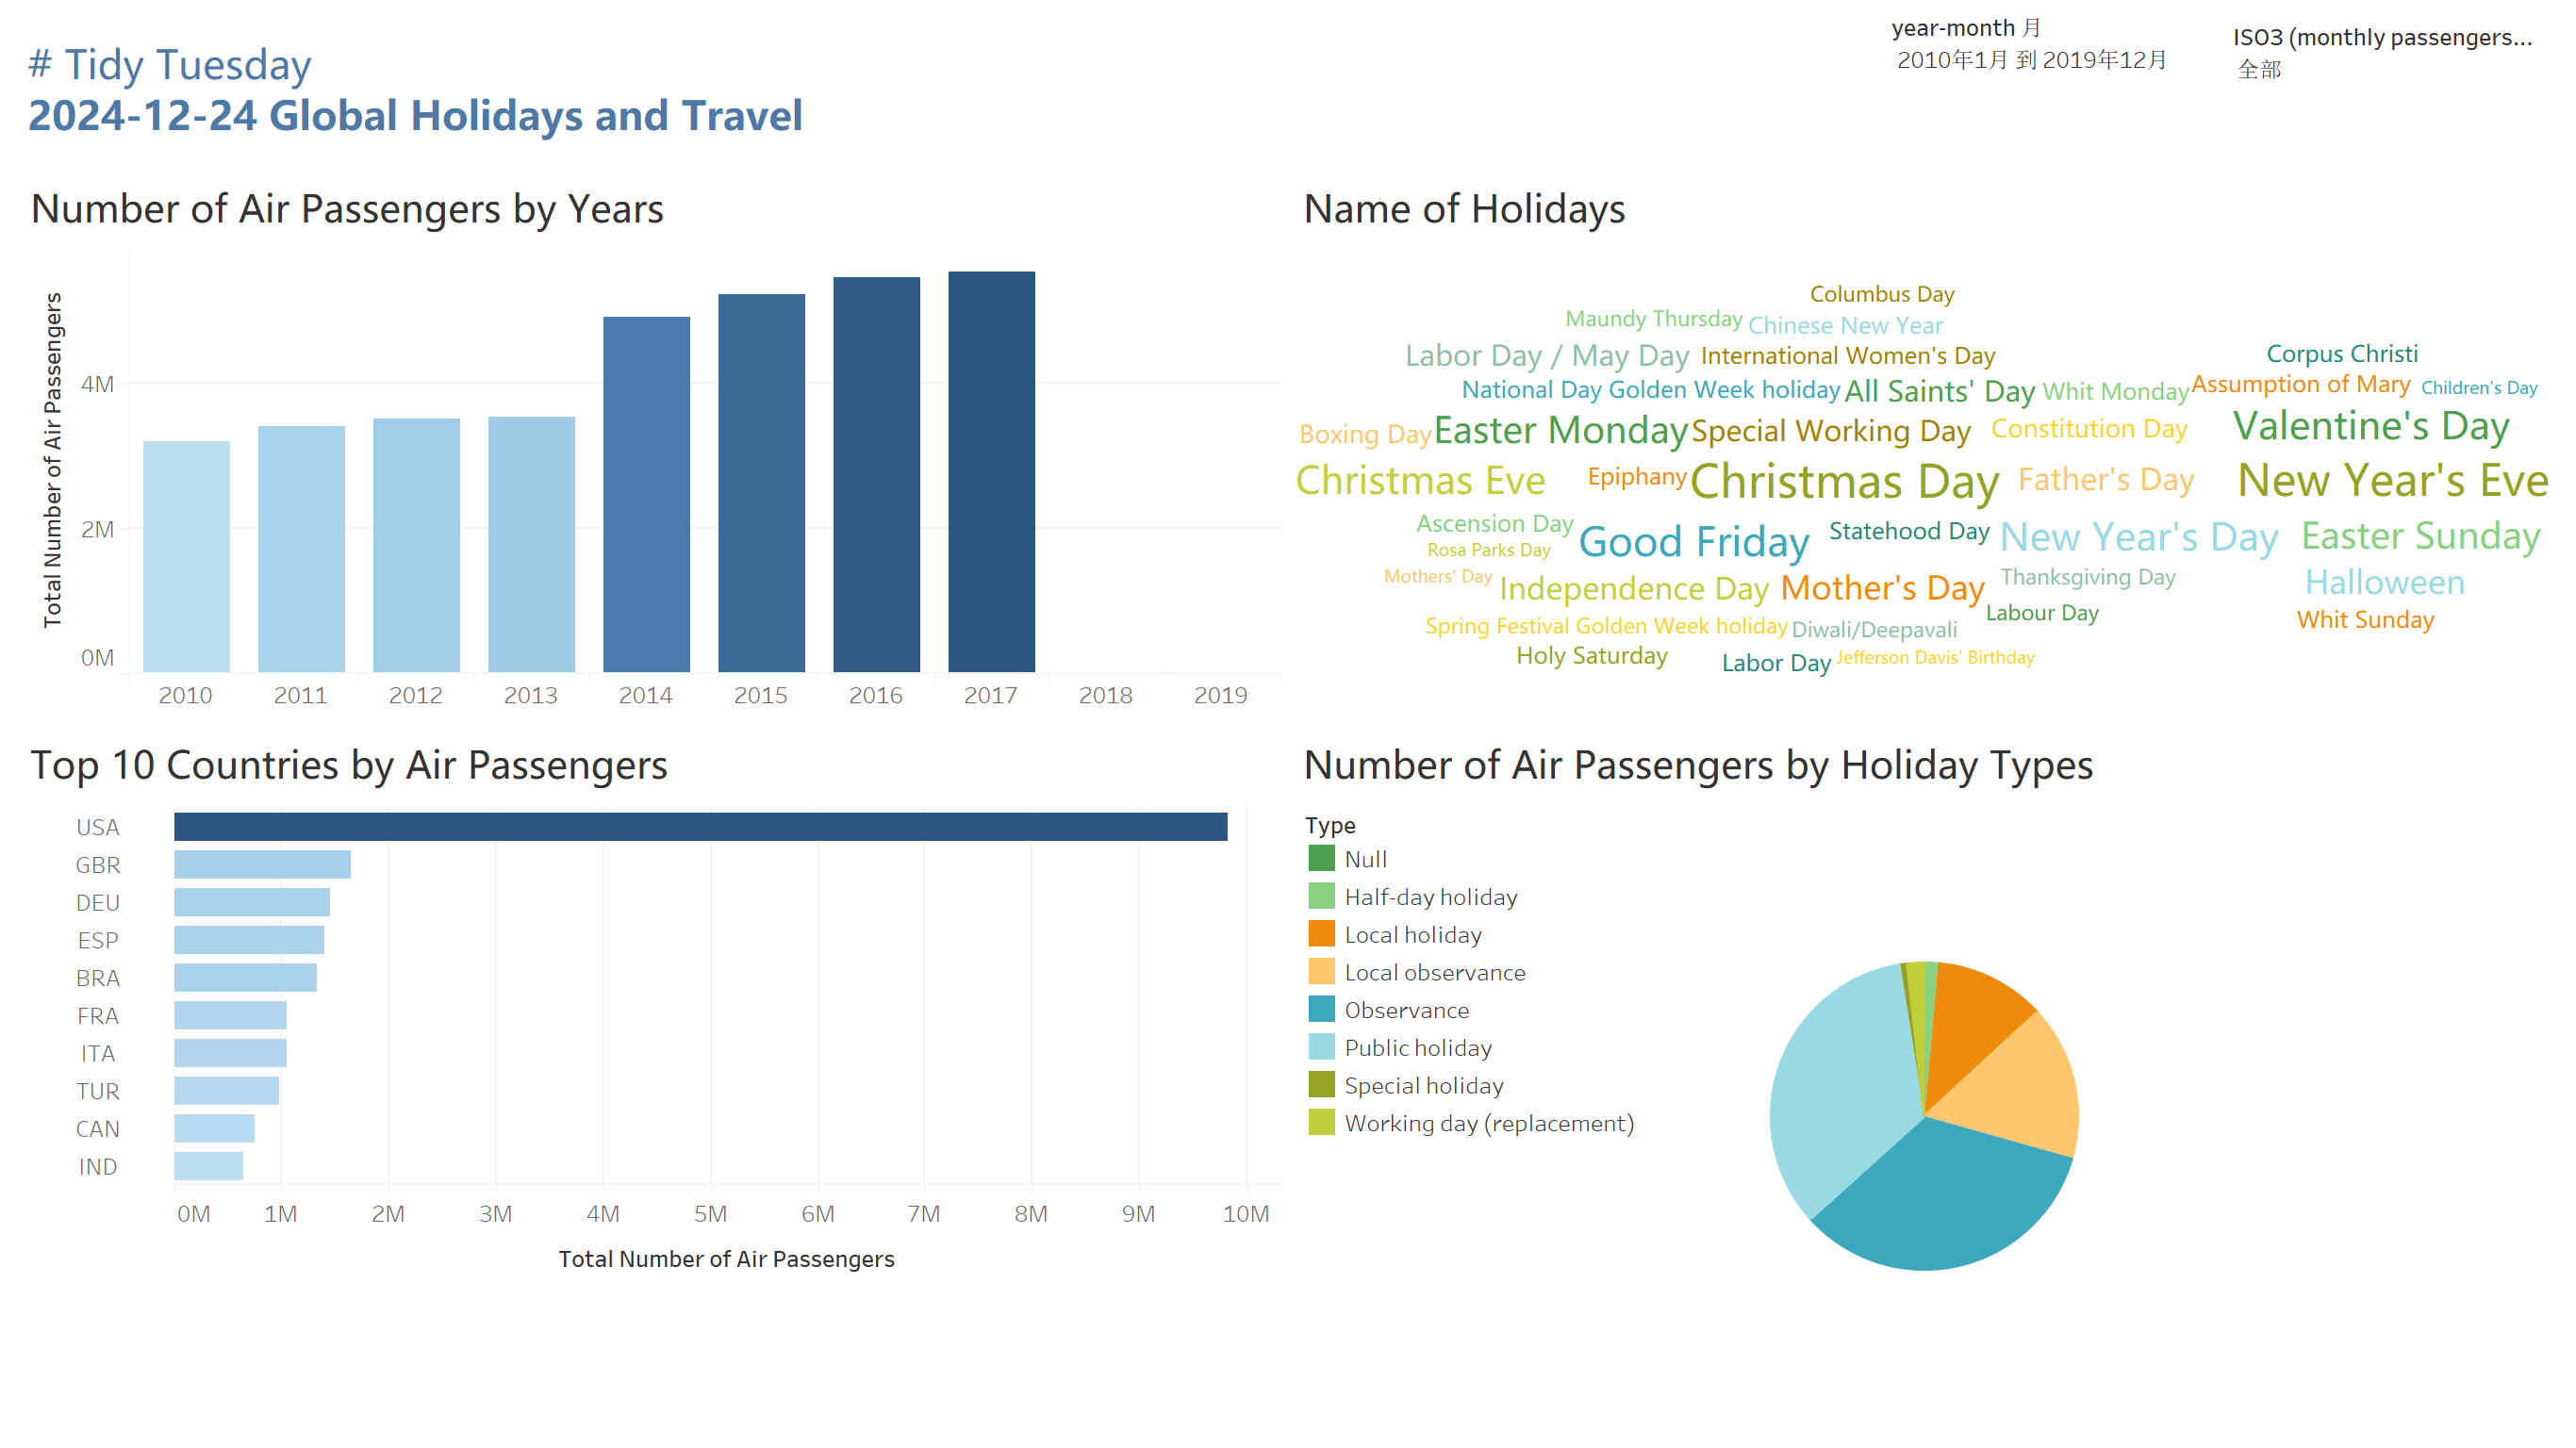

What the dashboard file says about the page in this screenshot:
{"tool":"tableau","page":{"name":"#Tidy Tuesday - Global Holidays and Travel","canvas":[1366,768],"ordinal":0},"visuals":[{"type":"filter","title":"Number of Air Passengers by Years","param":"[federated.0e6swhc0u5w6hn1cm92ie0rav6ya].[tmn:Calculation_3117898345204346886:qk","box":[1003,5,168,69]},{"type":"text","box":[8,8,1350,79]},{"type":"filter","title":"Number of Air Passengers by Years","param":"[federated.0e6swhc0u5w6hn1cm92ie0rav6ya].[none:ISO3 (monthly_passengers.csv):nk]","box":[1184,10,160,44]},{"type":"worksheet","title":"Number of Air Passengers by Years","mark":"Bar","rows":["Total OS (复制)_3117898345212526599"],"cols":["Calculation_3117898345204346886"],"box":[8,87,675,295.2]},{"type":"worksheet","title":"Name of Holidays","mark":"Text","box":[683,87,675,295.2]},{"type":"worksheet","title":"Top 10 Countries by Air Passengers","mark":"Automatic","rows":["ISO3 (monthly_passengers.csv)"],"cols":["Total_OS"],"box":[8,382.2,675,377.8]},{"type":"worksheet","title":"Number of Air Passengers by Holiday Types","mark":"Pie","box":[683,382.2,675,377.8]},{"type":"legend","title":"Number of Air Passengers by Holiday Types","param":"[federated.0e6swhc0u5w6hn1cm92ie0rav6ya].[none:Type:nk]","box":[691,427,181,178]}]}

Visuals, with their boxes in screenshot pixels (x1, y1, x2, y2), scaled from the page's 1366x768 canvas onto the 2576x1448 screenshot:
"Number of Air Passengers by Years" filter: 1891:9:2208:140
text: 15:15:2561:164
"Number of Air Passengers by Years" filter: 2233:19:2535:102
"Number of Air Passengers by Years" worksheet (Bar marks): 15:164:1288:720
"Name of Holidays" worksheet (Text marks): 1288:164:2561:720
"Top 10 Countries by Air Passengers" worksheet: 15:720:1288:1433
"Number of Air Passengers by Holiday Types" worksheet (Pie marks): 1288:720:2561:1433
"Number of Air Passengers by Holiday Types" legend: 1303:805:1644:1141
